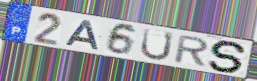2: (31, 12, 64, 47)
6: (103, 23, 139, 58)
A: (63, 20, 101, 52)
R: (172, 34, 212, 68)
S: (207, 40, 250, 74)
U: (138, 27, 175, 62)
